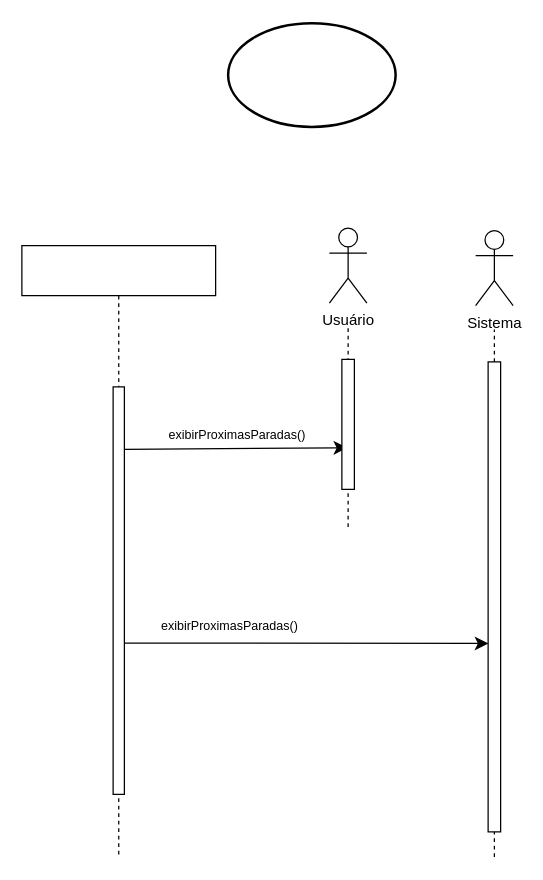
The diagram is 543 pixels wide and 880 high, and some of its shapes have lost their labels. The shapes that lost their labels are listed below. From the top down, each one's box as (x1, y1, x2, y2) in pixels, then its label:
(226, 21, 396, 128): UC-12 Visualizar Próximas Paradas
(21, 244, 216, 854): :Elevador
